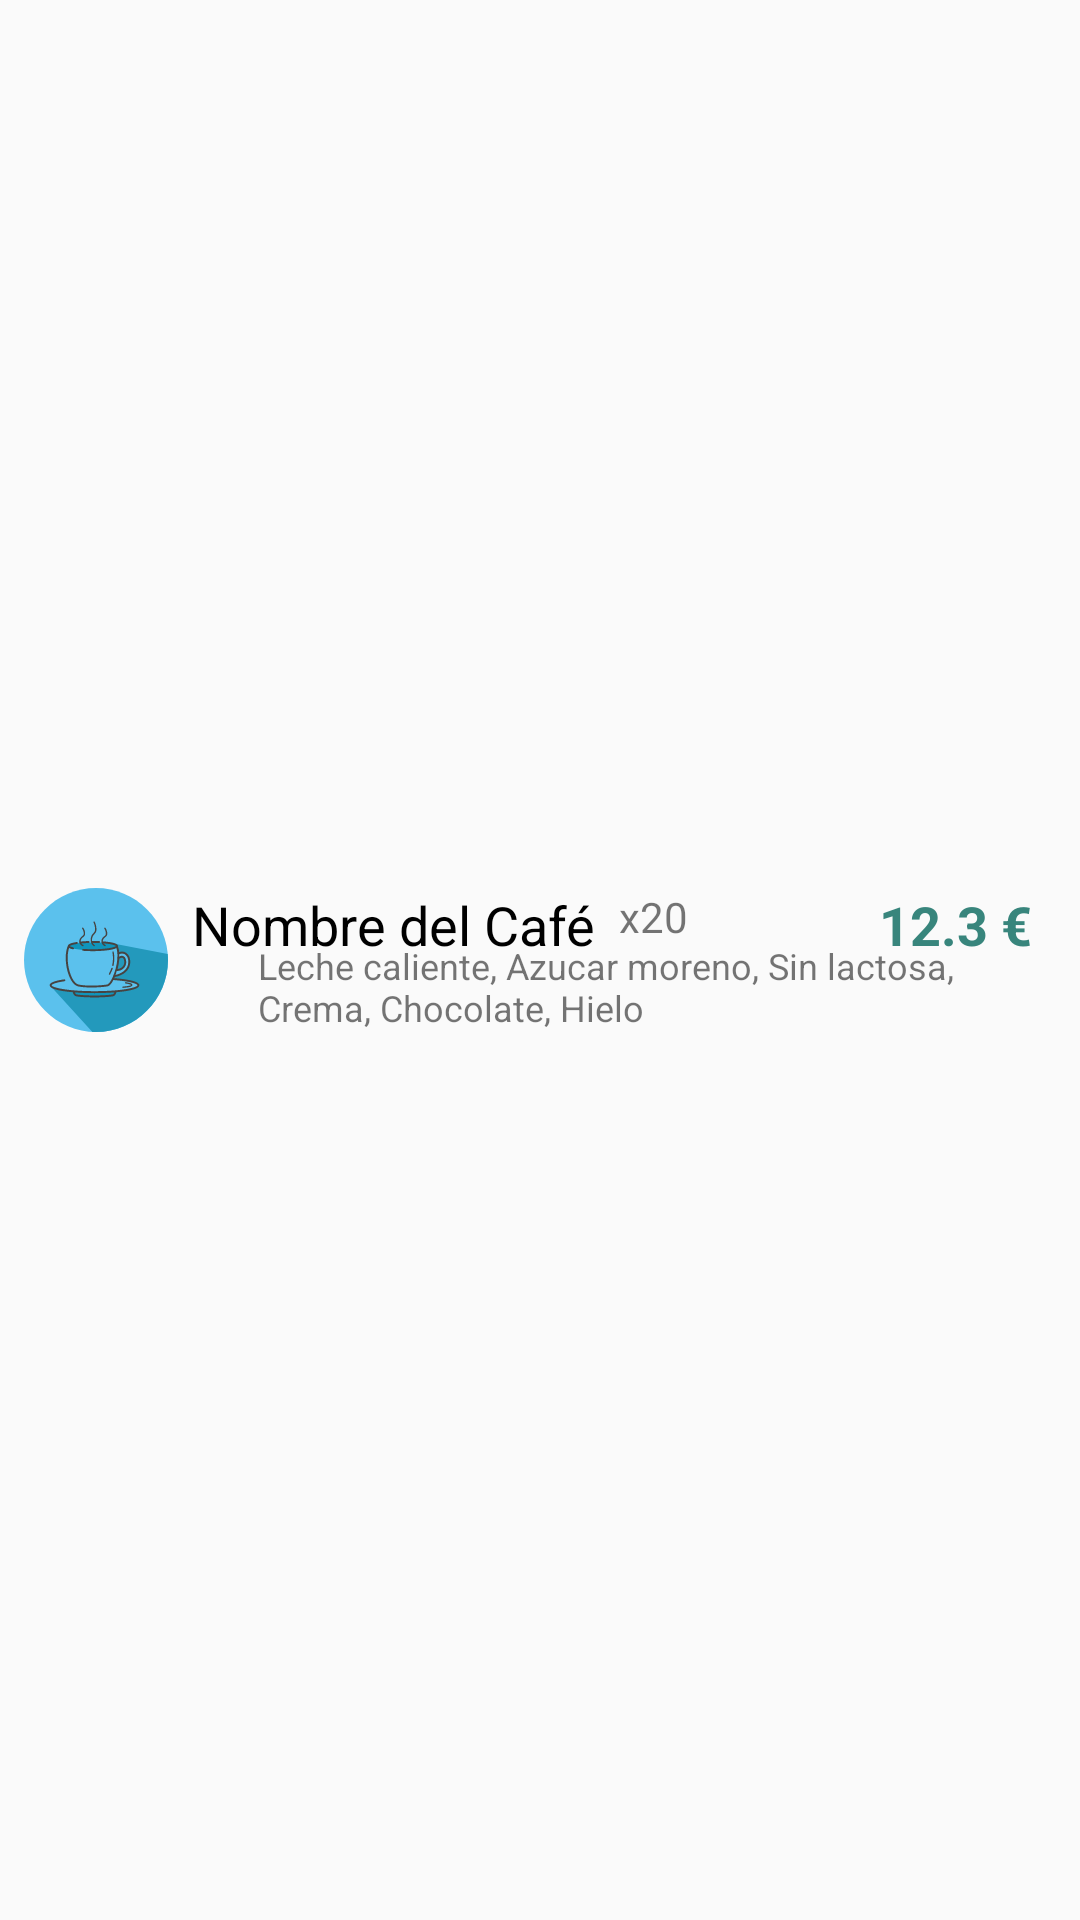

Where to tap for icons on this 1080 x 1920 app screen, as point (x, y):
hot drink: point (96, 960)
